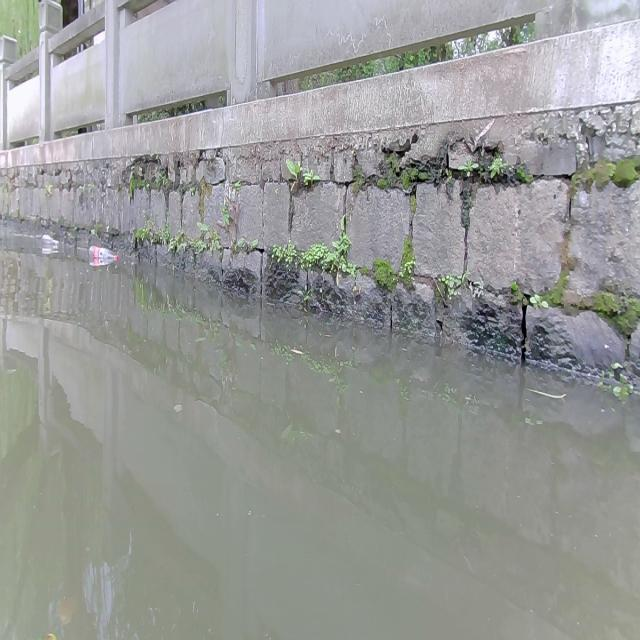bottle: (88, 245, 118, 259), (41, 233, 59, 244)
